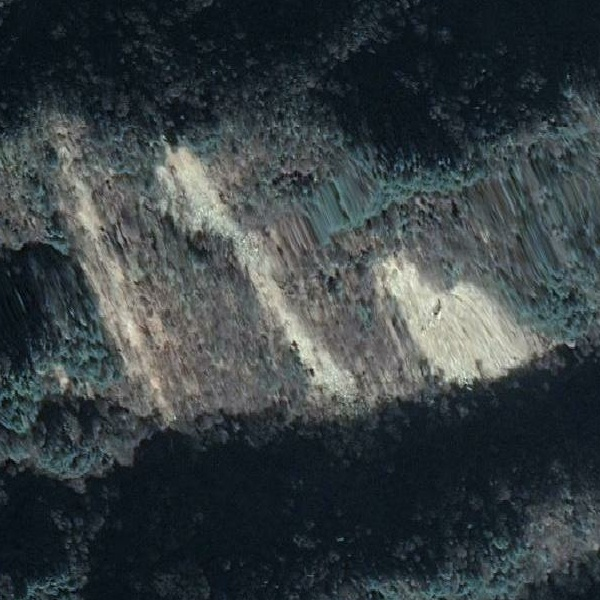slope: (144, 142, 364, 427), (49, 111, 177, 431), (372, 249, 573, 402)
